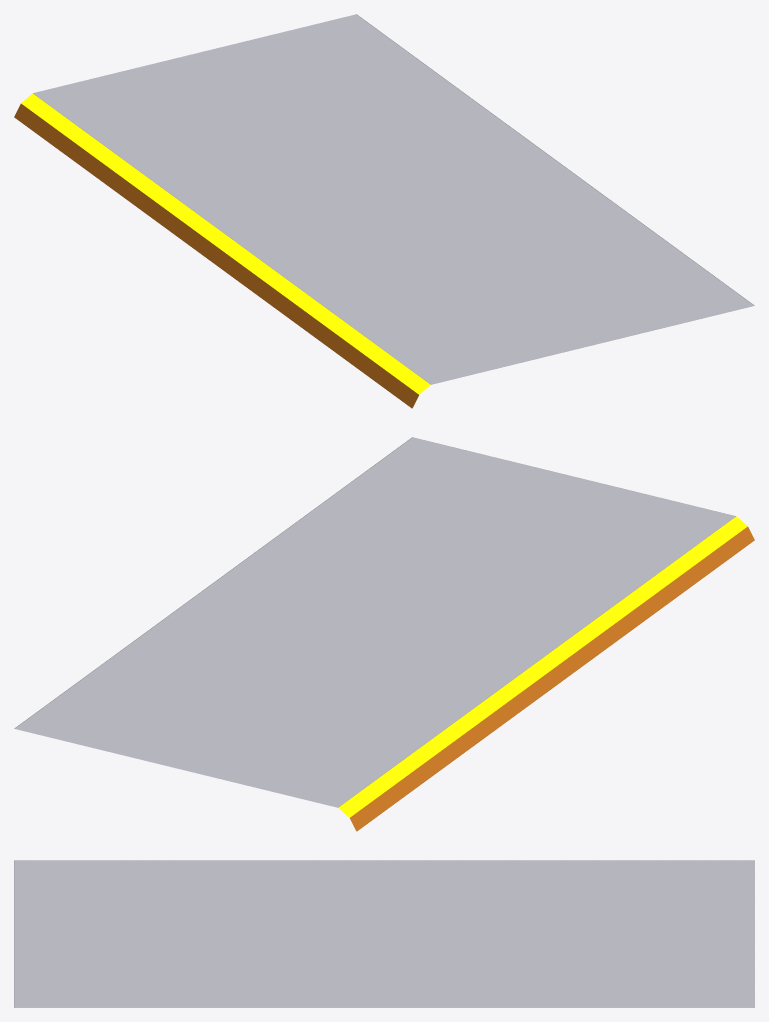
File: Plate_Form_Small_02_LP.FBX
The picture shows the model from 3 angles, top to bottom: view 1: azimuth 30°, elevation 25°; view 2: azimuth 150°, elevation 25°; view 3: azimuth 270°, elevation 25°; orthographic projection. The views are drawn at different scales.
Visible parts, largest first — view 1: Plate_Form_Small_02_LP; view 2: Plate_Form_Small_02_LP; view 3: Plate_Form_Small_02_LP.
Part boxes in pixels (x1,y1,x2,y2): Plate_Form_Small_02_LP: (14,14,754,408); Plate_Form_Small_02_LP: (14,437,754,831); Plate_Form_Small_02_LP: (14,860,754,1007).
Bounding box in the file's own units: 5.96 × 0.3227 × 12.
